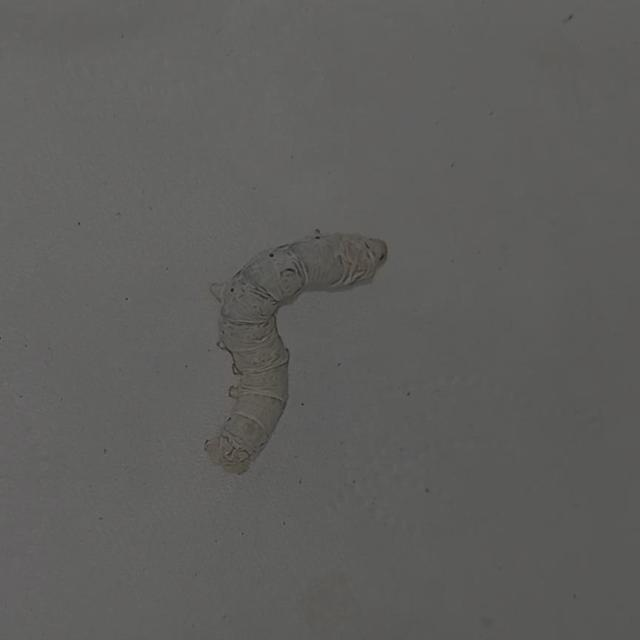Healthy: (170, 198, 422, 492)
